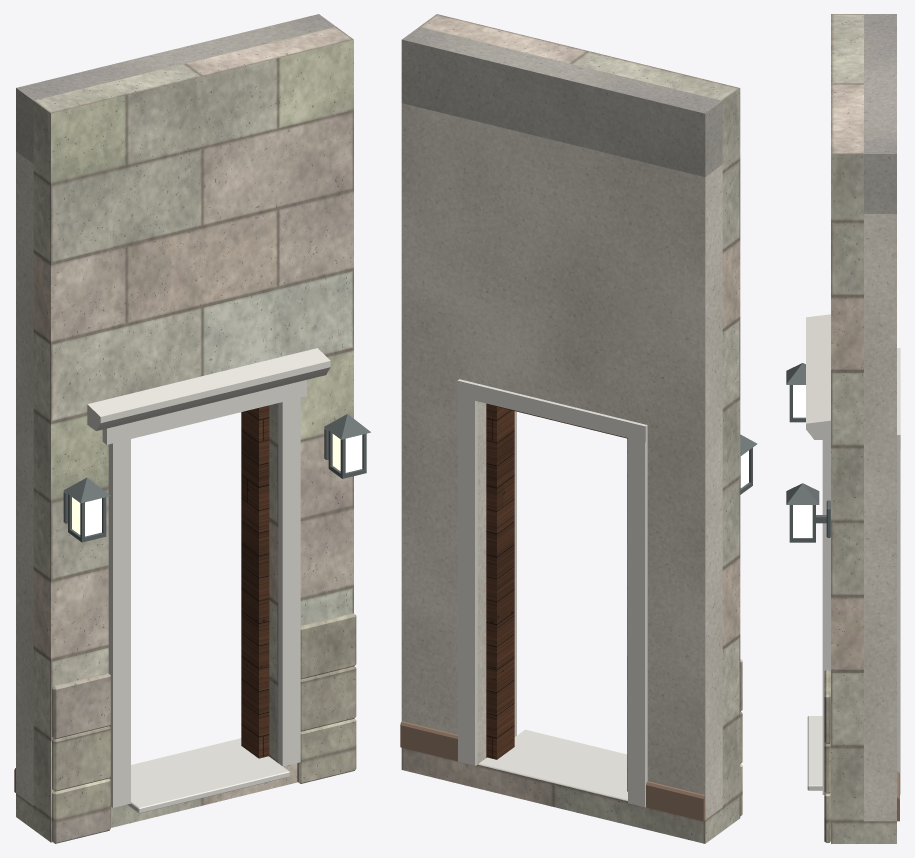
File: w_bdoor.glb
3 renders of one model, left to right at view 1: azimuth 30°, elevation 25°; view 2: azimuth 150°, elevation 25°; view 3: azimuth 270°, elevation 25°, orthographic. The views are drawn at different scales.
Parts seen in each view (by area): view 1: w_bdoor_stone, w_bdoor_trim, w_bdoor_stone_r, w_bdoor_plaster, w_bdoor_dkwood, w_bdoor_concrete, w_bdoor_iron, w_bdoor_lamp_glass; view 2: w_bdoor_plaster, w_bdoor_stone, w_bdoor_concrete, w_bdoor_trim, w_bdoor_dkwood, w_bdoor_base; view 3: w_bdoor_stone, w_bdoor_plaster, w_bdoor_trim, w_bdoor_concrete, w_bdoor_iron, w_bdoor_stone_r, w_bdoor_lamp_glass.
Boxes of the visible parts, x1,y1,x2,y2 form: w_bdoor_stone: (16, 27, 353, 842); w_bdoor_trim: (87, 348, 330, 813); w_bdoor_stone_r: (52, 613, 356, 843); w_bdoor_plaster: (16, 151, 33, 805); w_bdoor_dkwood: (241, 405, 269, 758); w_bdoor_concrete: (16, 14, 335, 163); w_bdoor_iron: (63, 414, 370, 542); w_bdoor_lamp_glass: (72, 434, 362, 536); w_bdoor_plaster: (401, 103, 722, 819); w_bdoor_stone: (401, 14, 740, 843); w_bdoor_concrete: (401, 27, 722, 176); w_bdoor_trim: (457, 379, 647, 807); w_bdoor_dkwood: (486, 403, 627, 791); w_bdoor_base: (400, 721, 705, 821); w_bdoor_stone: (831, 14, 896, 843); w_bdoor_plaster: (864, 214, 896, 821); w_bdoor_trim: (806, 314, 900, 794); w_bdoor_concrete: (864, 14, 896, 213); w_bdoor_iron: (786, 363, 830, 542); w_bdoor_stone_r: (824, 669, 830, 842); w_bdoor_lamp_glass: (793, 385, 812, 537).
Bounding box in the file's own units: 2 × 4.6 × 0.692.
Materials: 9 (5 with a texture image).
